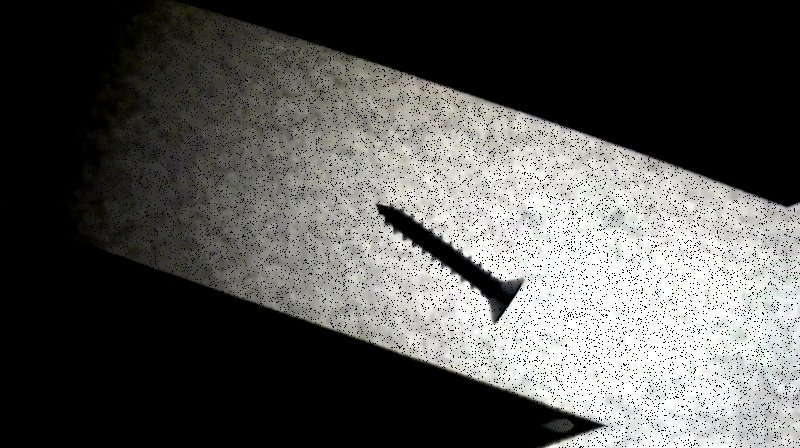S001: (373, 198, 526, 325)
